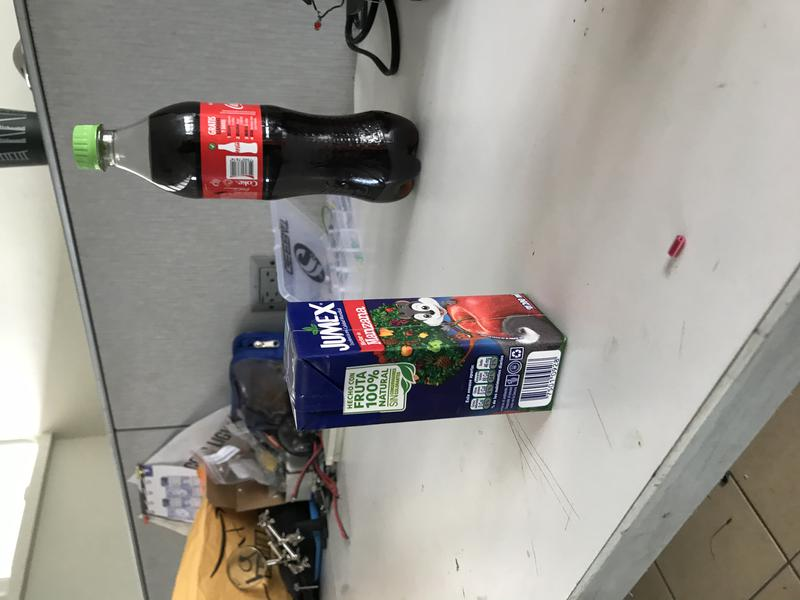coca_cola: (71, 101, 421, 204)
jumex_cajita: (281, 292, 567, 432)
